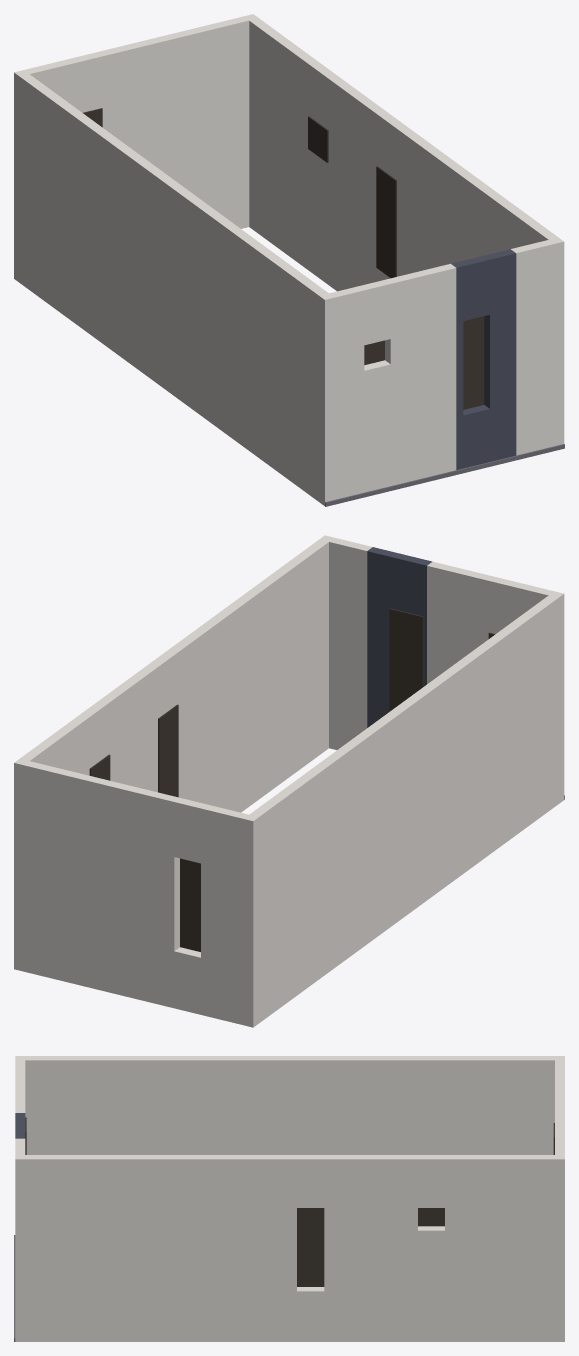
The model's file is SM_Floor_NarrowUpperScatterHighEndR_White_364_Back_01.gltf.
3 views of the same model, one above another, from view 1: azimuth 30°, elevation 25°; view 2: azimuth 150°, elevation 25°; view 3: azimuth 270°, elevation 25° (orthographic). The views are drawn at different scales.
Visible parts, largest first — view 1: SM_Floor_NarrowUpperScatterHighEndR_White_364_Back_01; view 2: SM_Floor_NarrowUpperScatterHighEndR_White_364_Back_01; view 3: SM_Floor_NarrowUpperScatterHighEndR_White_364_Back_01.
Boxes of the visible parts, box(x1,y1,x2,y2) form: SM_Floor_NarrowUpperScatterHighEndR_White_364_Back_01: box(14, 14, 564, 506); SM_Floor_NarrowUpperScatterHighEndR_White_364_Back_01: box(14, 535, 564, 1027); SM_Floor_NarrowUpperScatterHighEndR_White_364_Back_01: box(14, 1056, 564, 1341).
Bounding box in the file's own units: 3.64 × 3 × 8.21.
1 material, 1 textured.
